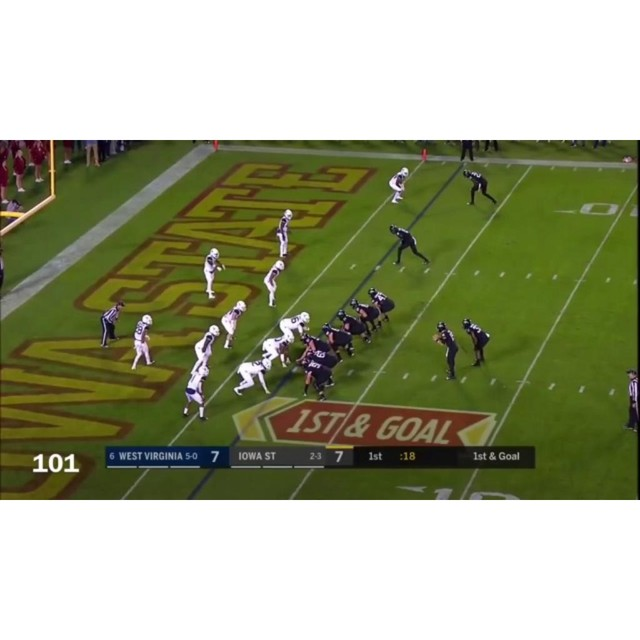american-football-player: (390, 224, 430, 268), (183, 364, 211, 420), (233, 357, 273, 396), (298, 357, 333, 401), (433, 322, 458, 381), (462, 318, 490, 367), (320, 322, 356, 359), (463, 169, 498, 206), (132, 314, 155, 370), (193, 324, 220, 371), (221, 300, 246, 349), (336, 309, 370, 345), (350, 298, 382, 336), (261, 332, 294, 368), (263, 258, 286, 308), (203, 247, 224, 299), (368, 286, 395, 325), (279, 311, 311, 341), (275, 208, 292, 258), (299, 333, 333, 357), (388, 167, 409, 203)
referee: (100, 299, 127, 349), (623, 368, 640, 433)
